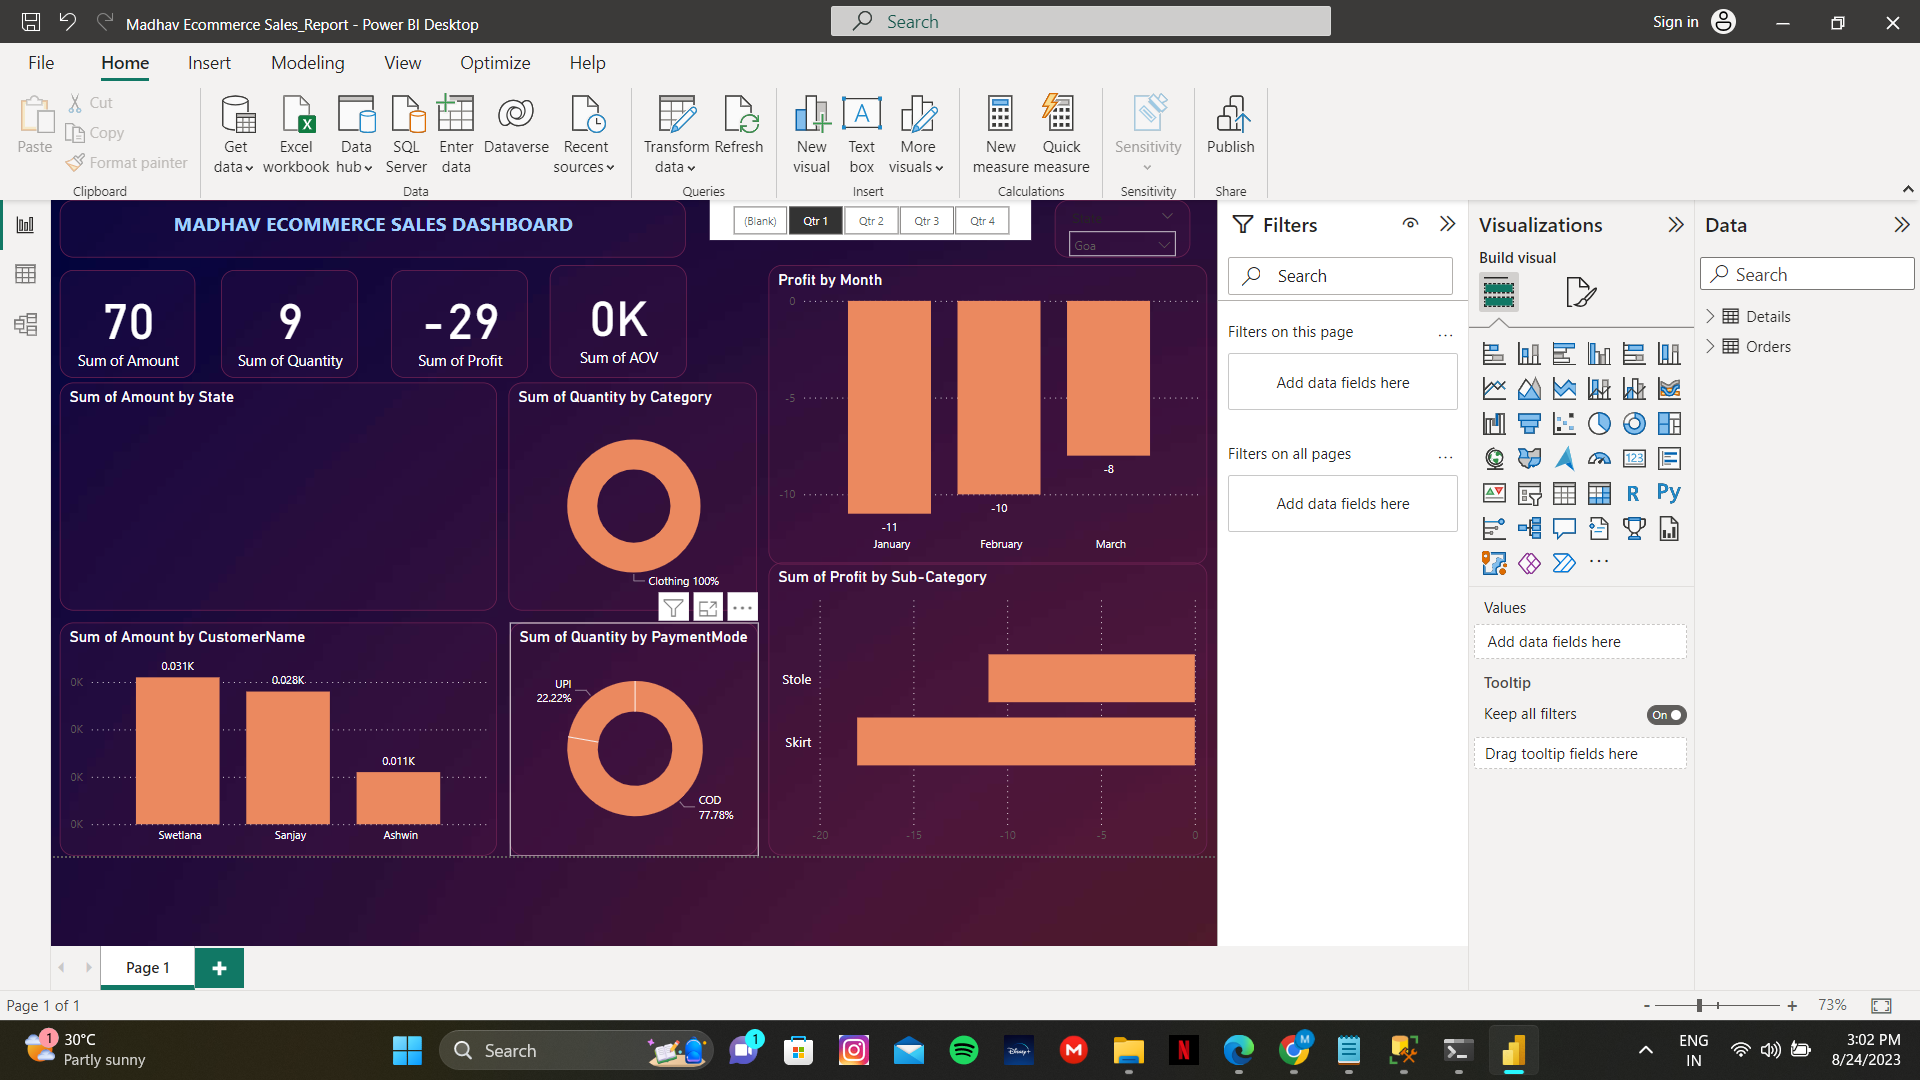

The dashboard page shown, as its layout file describes it:
{"tool":"powerbi","page":{"name":"Page 1","canvas":[1280,720],"ordinal":0},"visuals":[{"type":"textbox","box":[10,0,687.1,62.9],"z":0},{"type":"columnChart","title":"Profit by Month","fields":{"Y":["Sum(Details.Profit)"],"Category":["Orders.Order Date.Variation.Date Hierarchy.Month"]},"box":[787.1,71.4,481.4,328.6],"z":1000},{"type":"barChart","fields":{"Category":["Details.Sub-Category"],"Y":["Sum(Details.Profit)"]},"box":[787.1,398.6,481.4,321.4],"z":2000},{"type":"donutChart","fields":{"Category":["Details.Category"],"Y":["Sum(Details.Quantity)"]},"box":[502.9,200,272.9,250],"z":3000},{"type":"donutChart","fields":{"Y":["Sum(Details.Quantity)"],"Category":["Details.PaymentMode"]},"box":[504.3,464.3,272.9,255.7],"z":4000},{"type":"card","fields":{"Values":["Sum(Details.Amount)"]},"box":[10,77.1,148.6,118.6],"z":5000},{"type":"card","fields":{"Values":["Sum(Details.Quantity)"]},"box":[187.1,77.1,150,118.6],"z":6000},{"type":"card","fields":{"Values":["Sum(Details.Profit)"]},"box":[372.9,77.1,150,118.6],"z":7000},{"type":"card","fields":{"Values":["Sum(Details.AOV)"]},"box":[547.1,71.4,150,124.3],"z":8000},{"type":"barChart","fields":{"Category":["Orders.State"],"Y":["Sum(Details.Amount)"]},"box":[10,200,480,250],"z":9000},{"type":"columnChart","fields":{"Category":["Orders.CustomerName"],"Y":["Sum(Details.Amount)"]},"box":[10,464.3,480,255.7],"z":10000},{"type":"slicer","fields":{"Values":["Orders.Order Date.Variation.Date Hierarchy.Quarter"]},"box":[722.9,0,352.9,44.3],"z":11000},{"type":"slicer","fields":{"Values":["Orders.State"]},"box":[1101.4,0,148.6,62.9],"z":11001}]}

Visuals, with their boxes on the page's 1280x720 design canvas (x1, y1, x2, y2). These are canvas units, not pixel positions in the 1920x1080 screenshot, which may show the page scaled, cropped or inside an application window:
textbox: box=[10, 0, 697, 63]
"Profit by Month" columnChart: box=[787, 71, 1268, 400]
barChart - Details.Sub-Category x Sum(Details.Profit): box=[787, 399, 1268, 720]
donutChart - Details.Category x Sum(Details.Quantity): box=[503, 200, 776, 450]
donutChart - Sum(Details.Quantity) x Details.PaymentMode: box=[504, 464, 777, 720]
card - Sum(Details.Amount): box=[10, 77, 159, 196]
card - Sum(Details.Quantity): box=[187, 77, 337, 196]
card - Sum(Details.Profit): box=[373, 77, 523, 196]
card - Sum(Details.AOV): box=[547, 71, 697, 196]
barChart - Orders.State x Sum(Details.Amount): box=[10, 200, 490, 450]
columnChart - Orders.CustomerName x Sum(Details.Amount): box=[10, 464, 490, 720]
slicer - Orders.Order Date.Variation.Date Hierarchy.Quarter: box=[723, 0, 1076, 44]
slicer - Orders.State: box=[1101, 0, 1250, 63]
